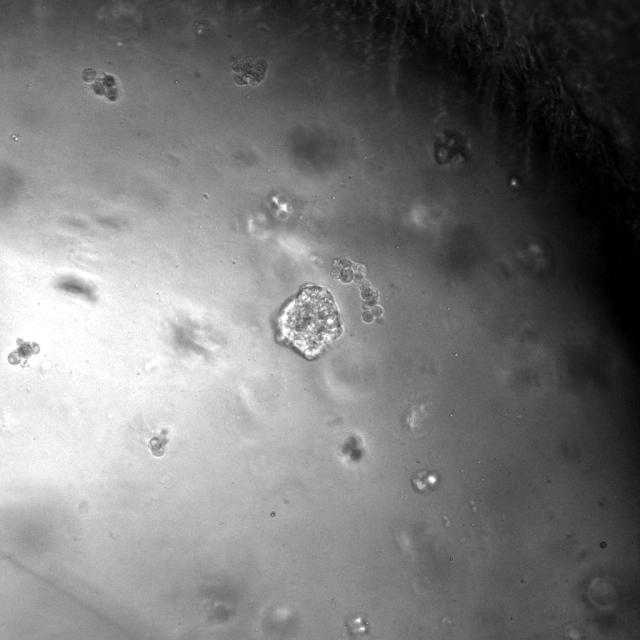organoid: (275, 284, 342, 360), (331, 257, 384, 323), (82, 68, 118, 101), (231, 56, 267, 86), (7, 338, 41, 366), (412, 470, 440, 493), (148, 429, 170, 458)
